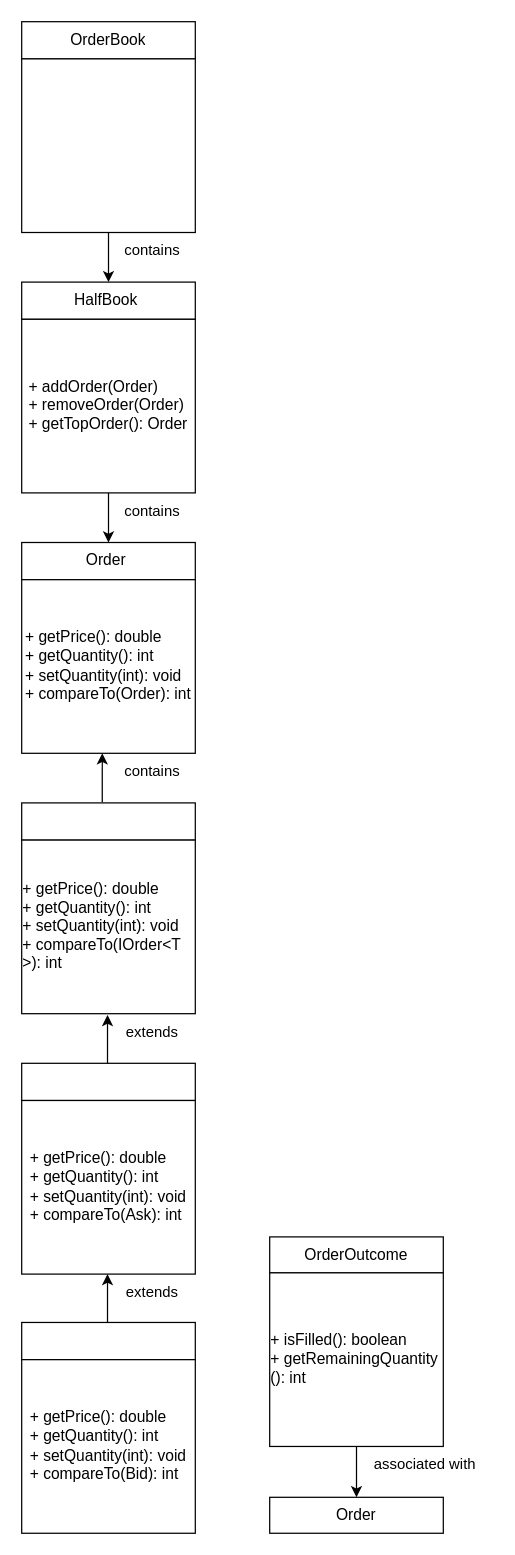
The diagram is 515 pixels wide and 1555 high, and some of its shapes have lost their labels. Here are the shapes that lost their labels. From the top down, the box of each, then its label:
(20, 58, 195, 232): + addOrder(Order) + removeOrder(Order) + getBestBid(): Bid + getBestAsk(): Ask
(20, 802, 195, 840): IOrder<T>
(20, 1062, 195, 1100): Ask
(20, 1321, 195, 1360): Bid
